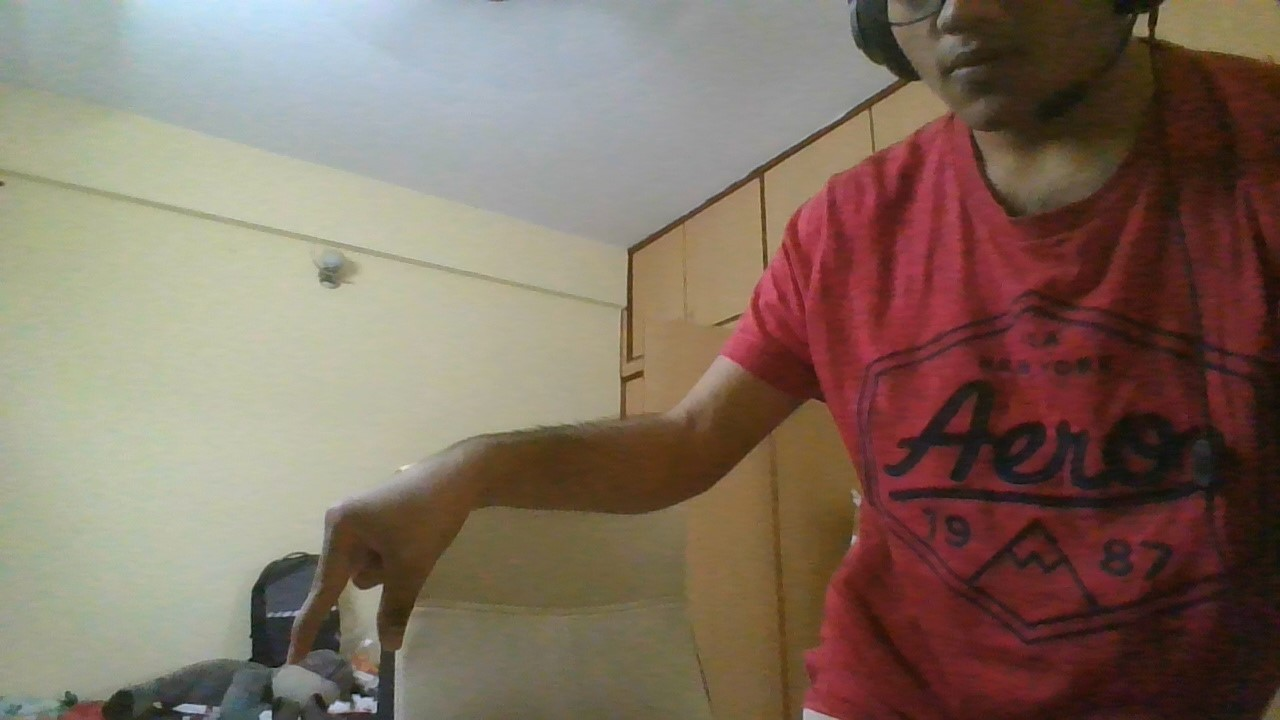q: (280, 455, 481, 669)
